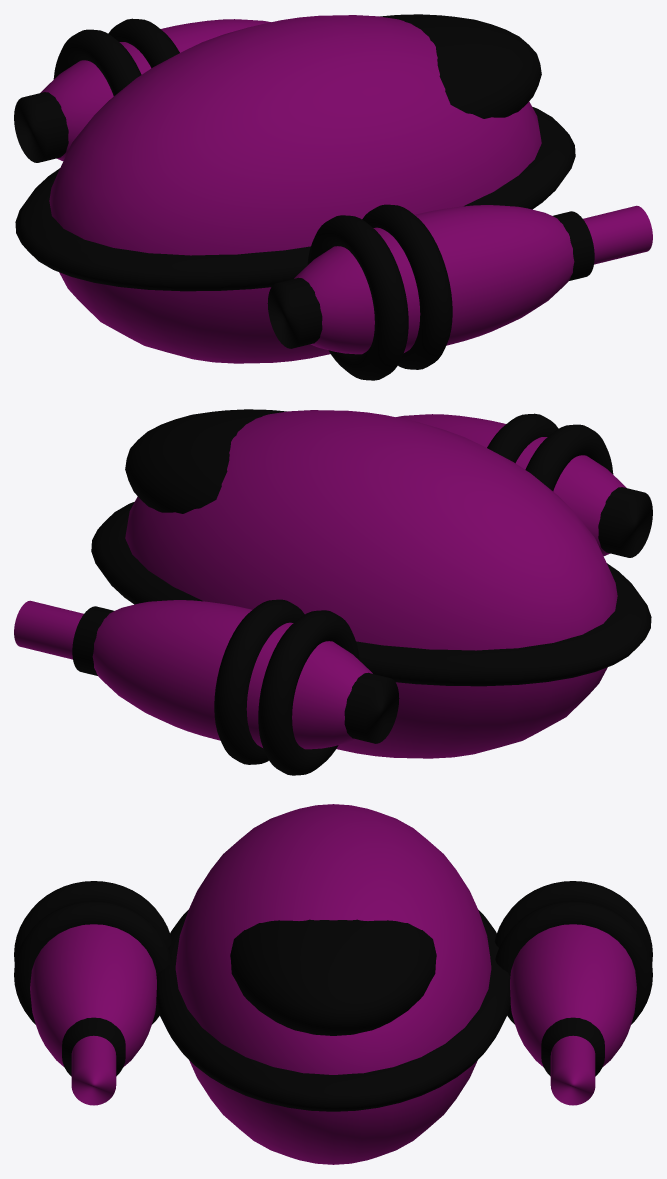
Rendered from drone.glb.
3 renders of one model, top to bottom at view 1: azimuth 30°, elevation 25°; view 2: azimuth 150°, elevation 25°; view 3: azimuth 270°, elevation 25°, orthographic. The views are drawn at different scales.
Parts seen in each view (by area): view 1: Sphere, Sphere.002, Torus, Sphere.003, Torus.002, Torus.001, Sphere.001, Cylinder, Cylinder.002, Torus.004, Cylinder.001, Torus.003; view 2: Sphere, Sphere.001, Torus, Sphere.003, Torus.004, Torus.003, Sphere.002, Cylinder.002, Cylinder, Torus.002, Cylinder.003, Torus.001; view 3: Sphere, Sphere.003, Torus, Sphere.001, Sphere.002, Torus.001, Torus.003, Torus.002, Torus.004, Cylinder.001, Cylinder.003, Cylinder (+1 smaller).
Part boxes in pixels (x1,y1,x2,y2): Sphere: [49, 15, 541, 363]; Sphere.002: [294, 205, 574, 354]; Torus: [15, 107, 575, 291]; Sphere.003: [379, 14, 541, 118]; Torus.002: [307, 215, 408, 380]; Torus.001: [362, 204, 452, 369]; Sphere.001: [40, 19, 270, 160]; Cylinder: [267, 211, 594, 348]; Cylinder.002: [14, 92, 68, 162]; Torus.004: [53, 29, 141, 96]; Cylinder.001: [583, 205, 652, 264]; Torus.003: [108, 18, 179, 68]; Sphere: [125, 410, 617, 758]; Sphere.001: [92, 600, 372, 749]; Torus: [91, 502, 651, 686]; Sphere.003: [125, 409, 287, 513]; Torus.004: [258, 610, 359, 775]; Torus.003: [214, 599, 304, 764]; Sphere.002: [396, 414, 626, 555]; Cylinder.002: [72, 606, 399, 743]; Cylinder: [598, 487, 652, 557]; Torus.002: [525, 424, 613, 491]; Cylinder.003: [14, 600, 83, 659]; Torus.001: [487, 413, 558, 463]; Sphere: [175, 804, 491, 1164]; Sphere.003: [230, 919, 436, 1035]; Torus: [156, 910, 510, 1111]; Sphere.001: [510, 924, 636, 1066]; Sphere.002: [30, 924, 156, 1066]; Torus.001: [14, 901, 171, 1024]; Torus.003: [495, 901, 652, 1024]; Torus.002: [14, 881, 172, 964]; Torus.004: [494, 881, 652, 964]; Cylinder.001: [71, 1035, 116, 1105]; Cylinder.003: [550, 1035, 595, 1105]; Cylinder: [62, 1017, 125, 1076].
Size of the model in its own units: 3.6 by 2 by 4.
